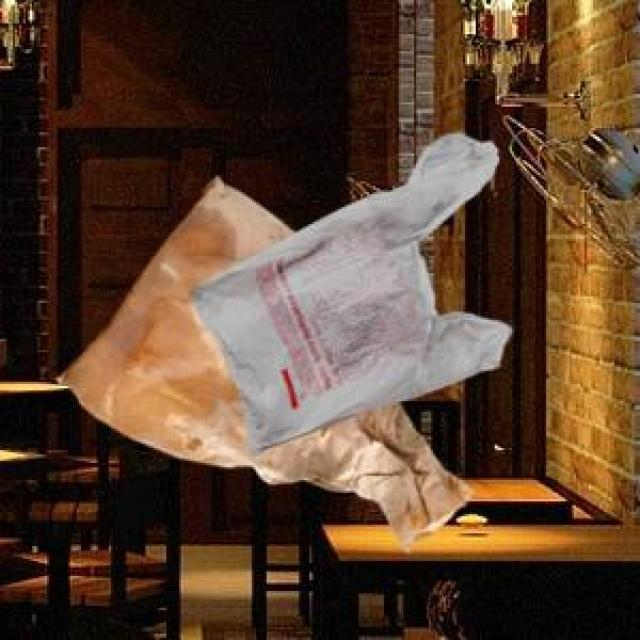paper: (53, 173, 469, 548)
